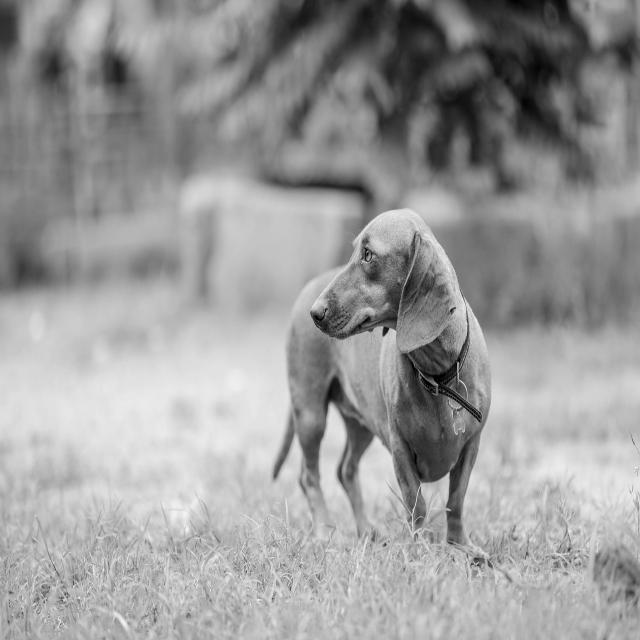dog: (274, 207, 493, 546)
